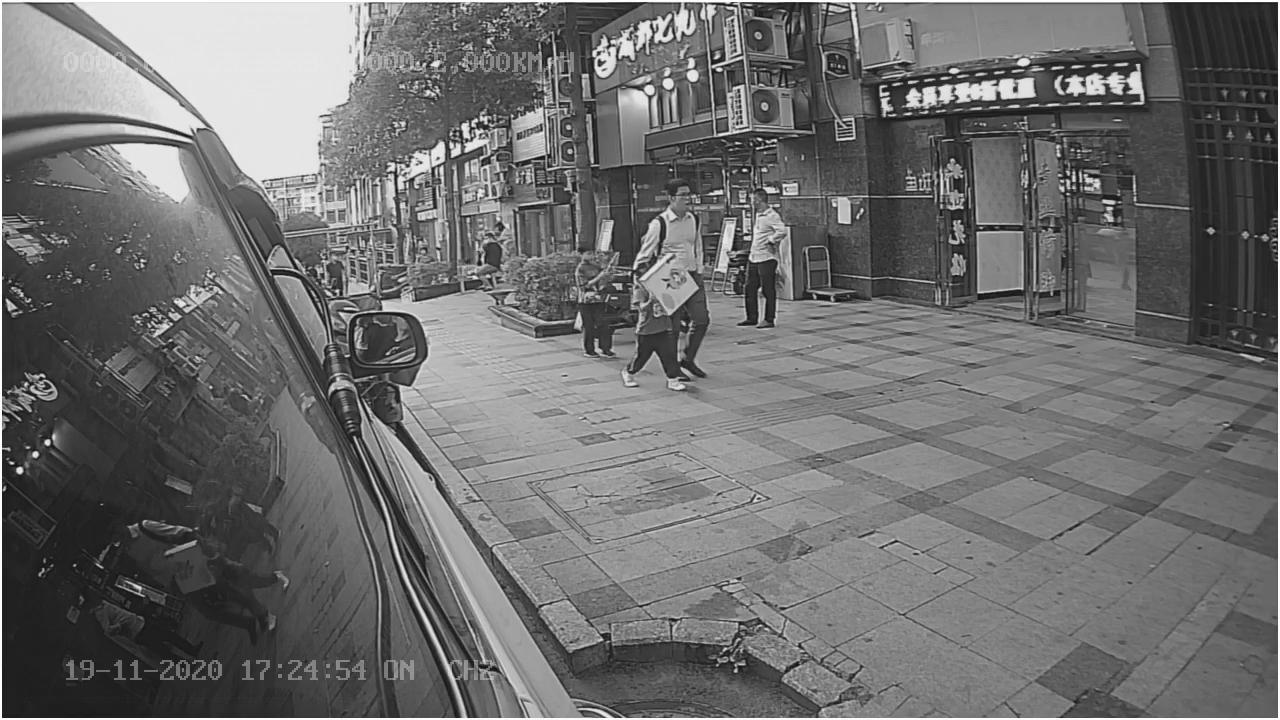person: (631, 176, 711, 265), (572, 241, 619, 367)
